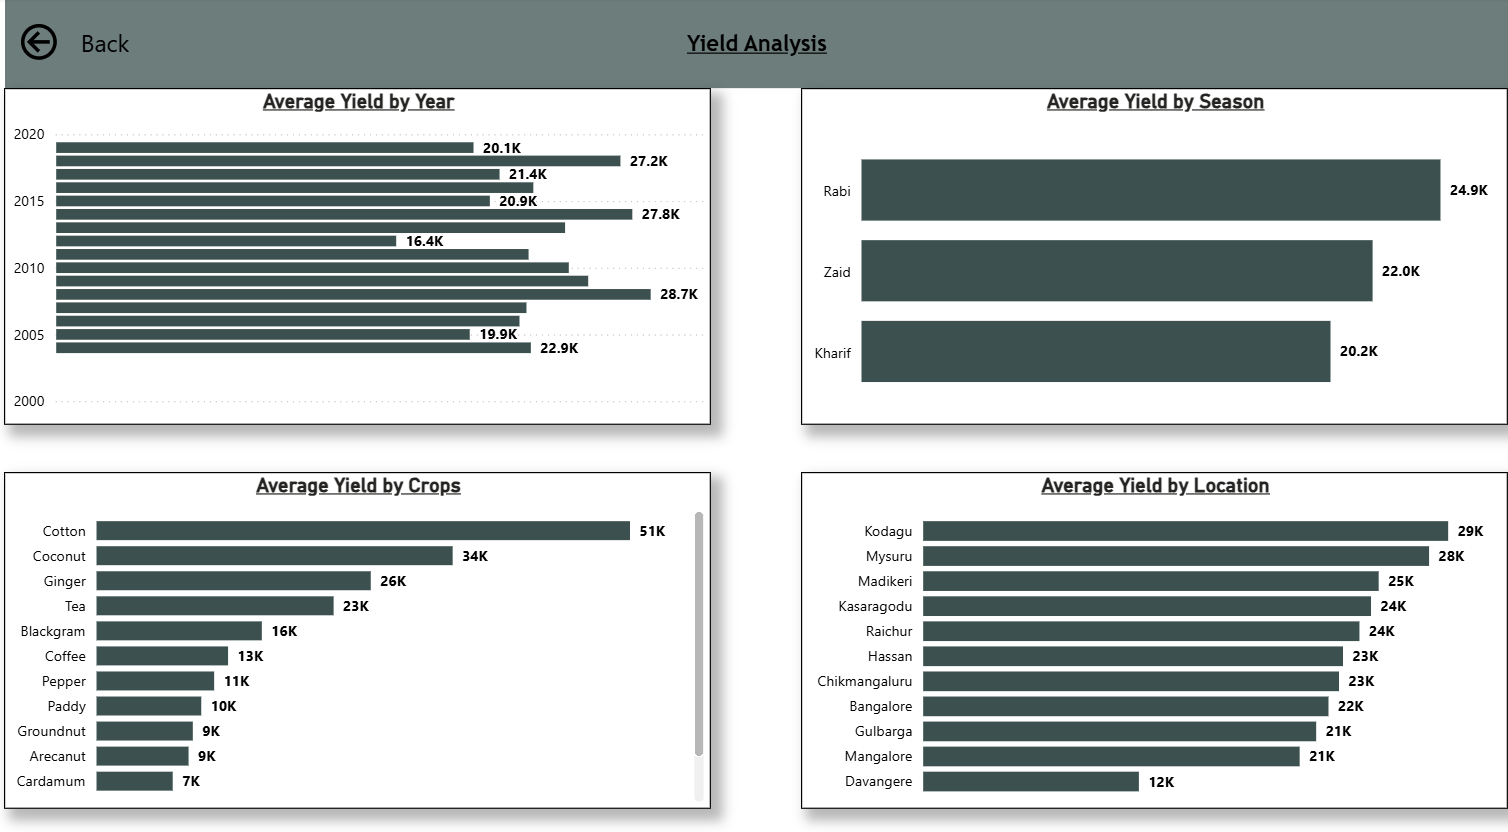

The page's visual inventory and layout, read from the dashboard file:
{"tool":"powerbi","page":{"name":"Yield Analysis","canvas":[1280,720],"ordinal":3},"visuals":[{"type":"shape","box":[12.3,0,1267.7,76],"z":0},{"type":"barChart","title":"Average Yield by Year","fields":{"Category":["AGRICULTURE.YEAR"],"Y":["Avg(AGRICULTURE.YEILDS)"]},"box":[12,76,596,284],"z":1000},{"type":"barChart","title":"Average Yield by Season","fields":{"Category":["AGRICULTURE.SEASON"],"Y":["Avg(AGRICULTURE.YEILDS)"]},"box":[684,76,596,284],"z":2000},{"type":"barChart","title":"Average Yield by Location","fields":{"Category":["AGRICULTURE.LOCATION"],"Y":["Avg(AGRICULTURE.YEILDS)"]},"box":[684,400,596,284],"z":3000},{"type":"barChart","title":"Average Yield by Crops","fields":{"Category":["AGRICULTURE.CROPS"],"Y":["Avg(AGRICULTURE.YEILDS)"]},"box":[12,400,596,284],"z":4000}]}

Visuals, with their boxes on the page's 1280x720 design canvas (x1, y1, x2, y2). These are canvas units, not pixel positions in the 1508x832 screenshot, which may show the page scaled, cropped or inside an application window:
shape: (12,0,1280,76)
"Average Yield by Year" barChart: (12,76,608,360)
"Average Yield by Season" barChart: (684,76,1280,360)
"Average Yield by Location" barChart: (684,400,1280,684)
"Average Yield by Crops" barChart: (12,400,608,684)
